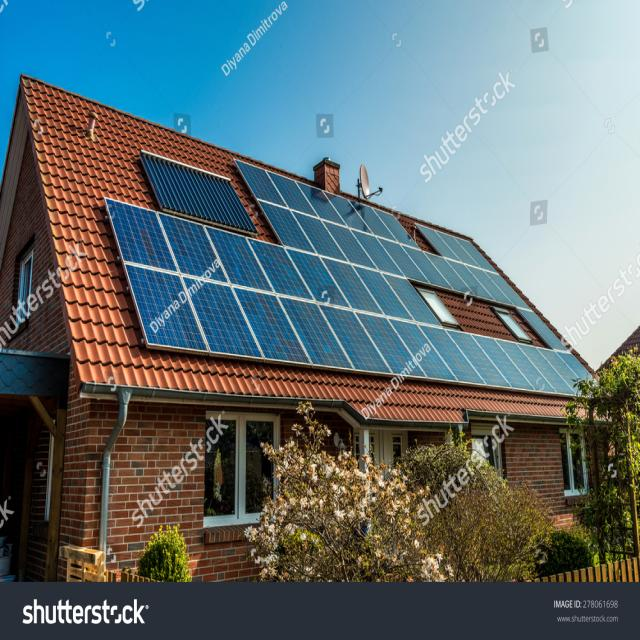clean-solar-panel: (107, 160, 586, 395)
